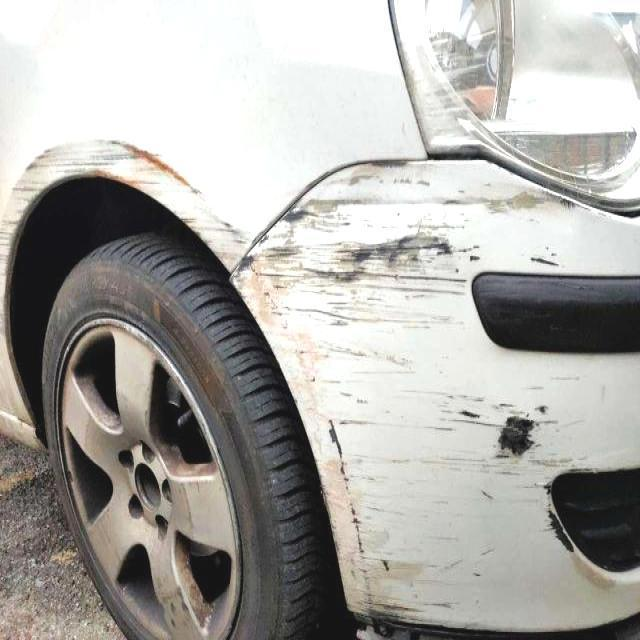minor: (304, 321, 448, 379)
moderate: (0, 139, 258, 273), (251, 167, 474, 304), (324, 425, 422, 599), (448, 383, 587, 465), (474, 191, 575, 221), (548, 491, 583, 559), (530, 251, 562, 272)
